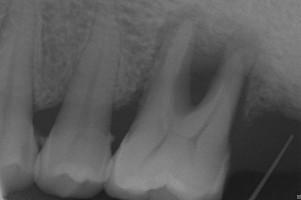Dental Caries: (153, 5, 262, 106)
